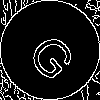G: (25, 25, 85, 84)
